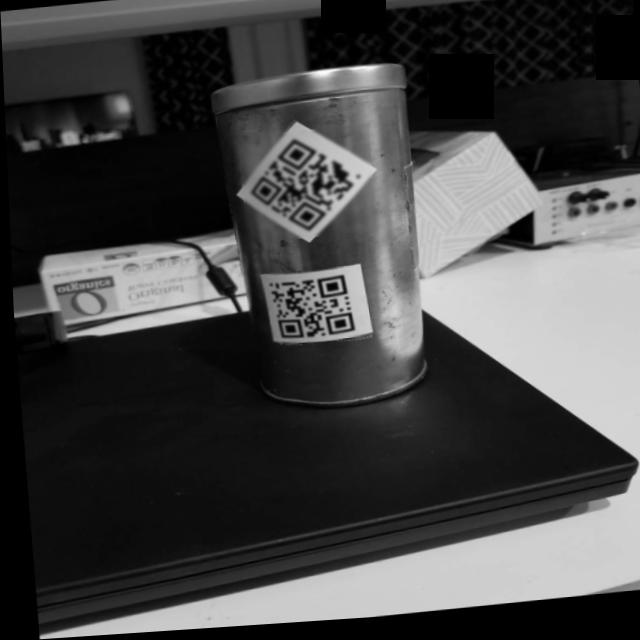QR_CODE: (237, 128, 374, 246), (258, 268, 362, 350)
